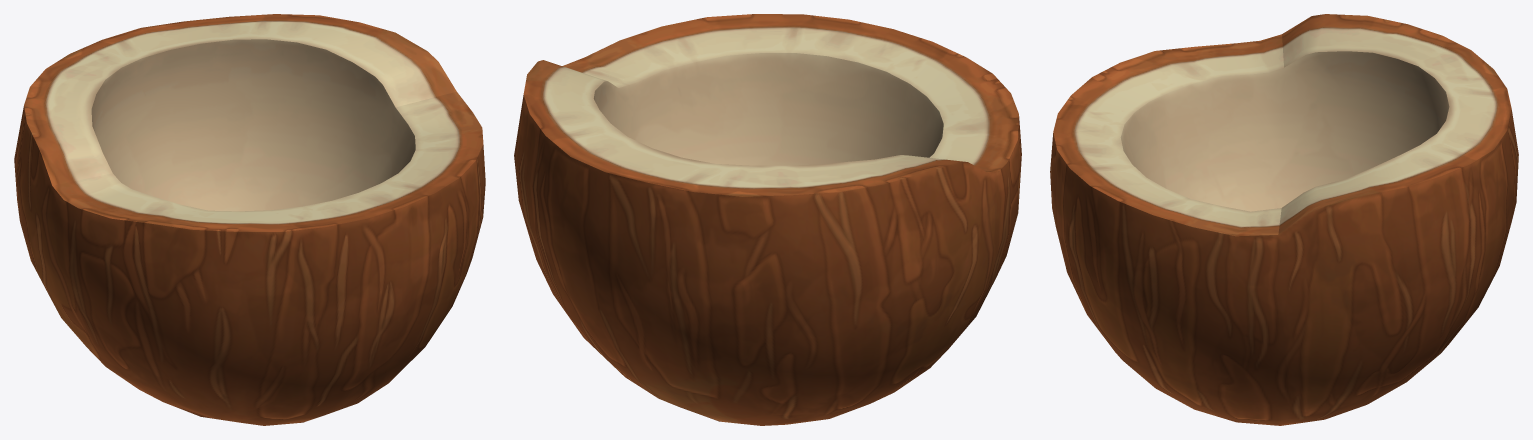
Rendered from SM_CoconutBottom.fbx.
The picture shows the model from 3 angles, left to right: view 1: azimuth 30°, elevation 25°; view 2: azimuth 150°, elevation 25°; view 3: azimuth 270°, elevation 25°; orthographic projection. The views are drawn at different scales.
Parts seen in each view (by area): view 1: SM_CoconutBottom; view 2: SM_CoconutBottom; view 3: SM_CoconutBottom.
Boxes of the visible parts, <box> form: SM_CoconutBottom: <box>14,14,485,425</box>; SM_CoconutBottom: <box>514,14,1021,425</box>; SM_CoconutBottom: <box>1050,14,1518,425</box>.
Size of the model in its own units: 17.11 by 11.96 by 16.94.
